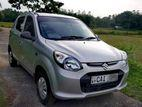car: (6, 9, 131, 105)
